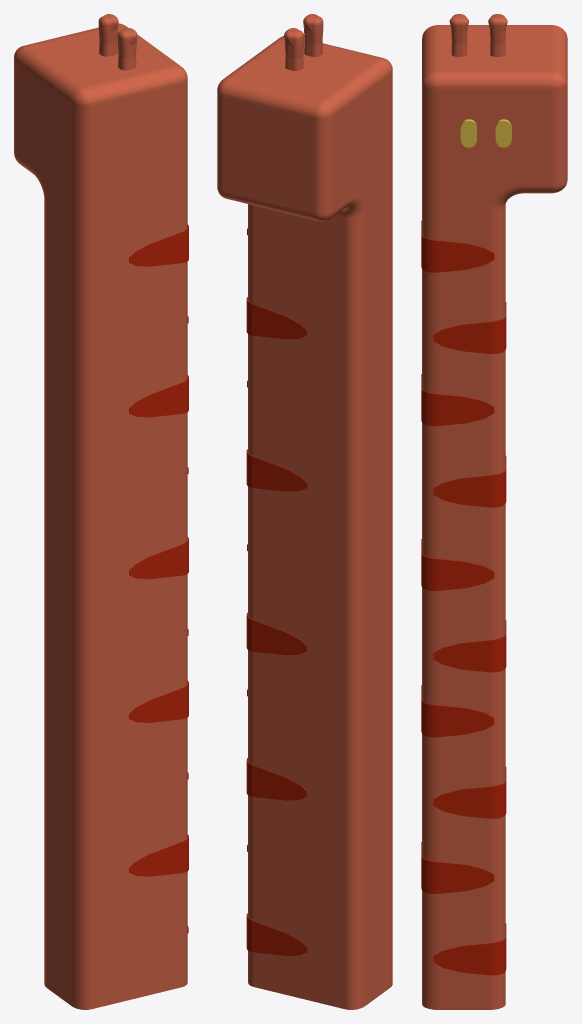
The model's file is 长颈鹿0810-4.dae.
3 renders of one model, left to right at view 1: azimuth 30°, elevation 25°; view 2: azimuth 150°, elevation 25°; view 3: azimuth 270°, elevation 25°, orthographic.
Visible parts, largest first — view 1: _, _______; view 2: _, _______; view 3: _, _______.
Part boxes in pixels (x1,y1,x2,y2): _: [14, 14, 188, 1009]; _______: [129, 225, 188, 933]; _: [217, 14, 392, 1009]; _______: [246, 229, 307, 955]; _: [421, 14, 567, 1009]; _______: [421, 221, 506, 975].
Bounding box in the file's own units: 1.29 × 10.08 × 1.38.
